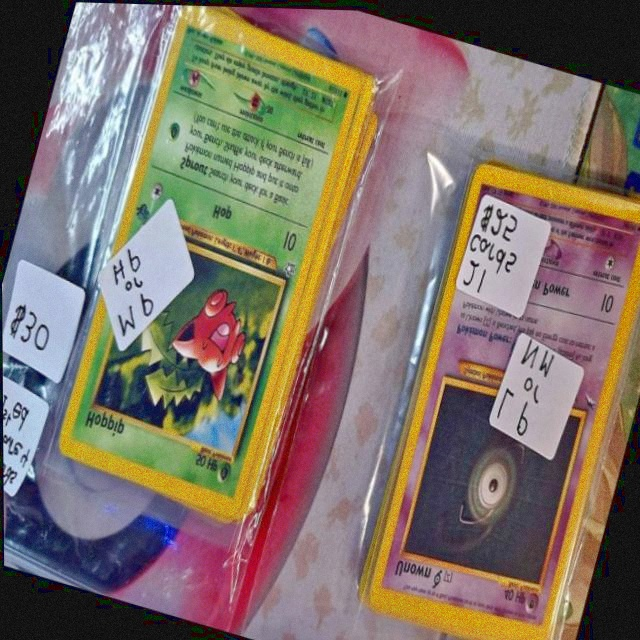card: (55, 4, 360, 516), (367, 159, 640, 640)
